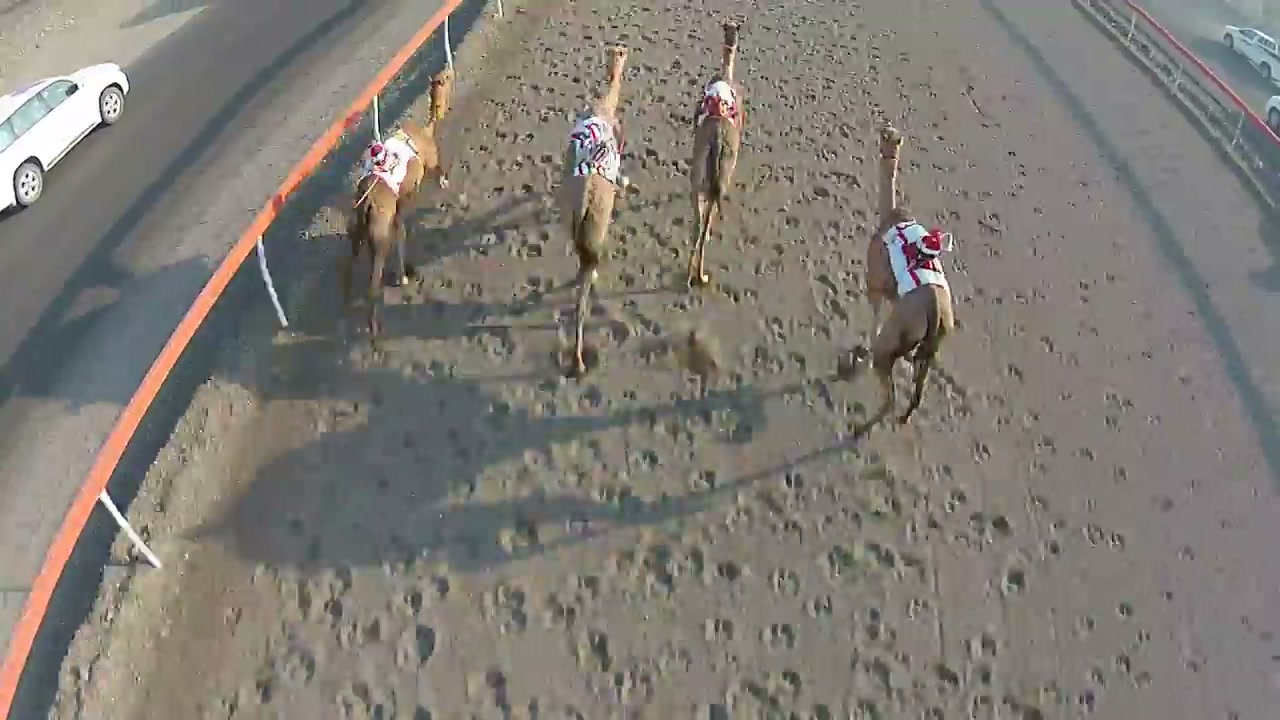animal_footprint: (311, 36, 1197, 715)
